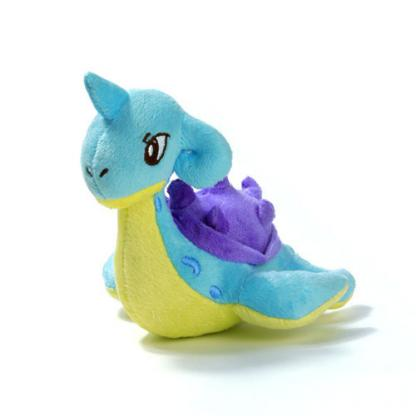Lapras: (48, 44, 370, 360)
